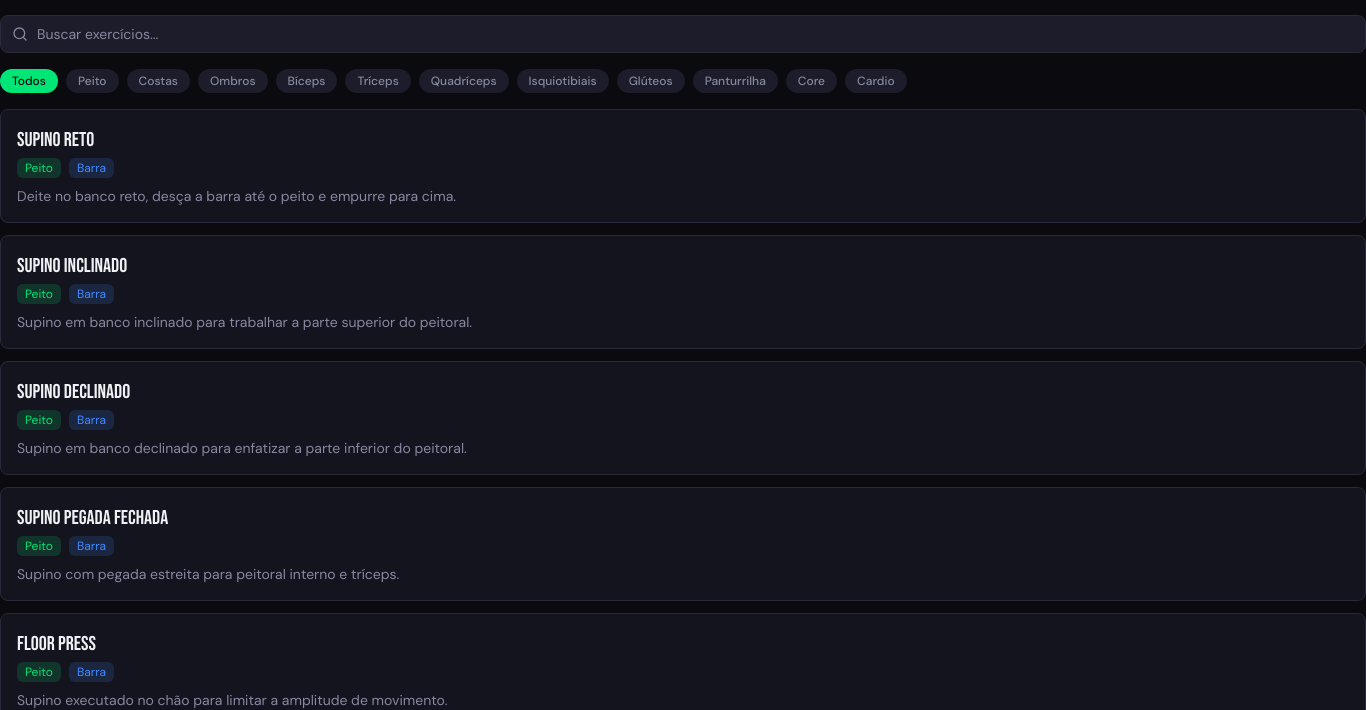
it: ExerciseLibrary › shows all exercises when "All" is clicked
Click the button "Peito".
click(92, 81)  # box [66, 69, 118, 93]
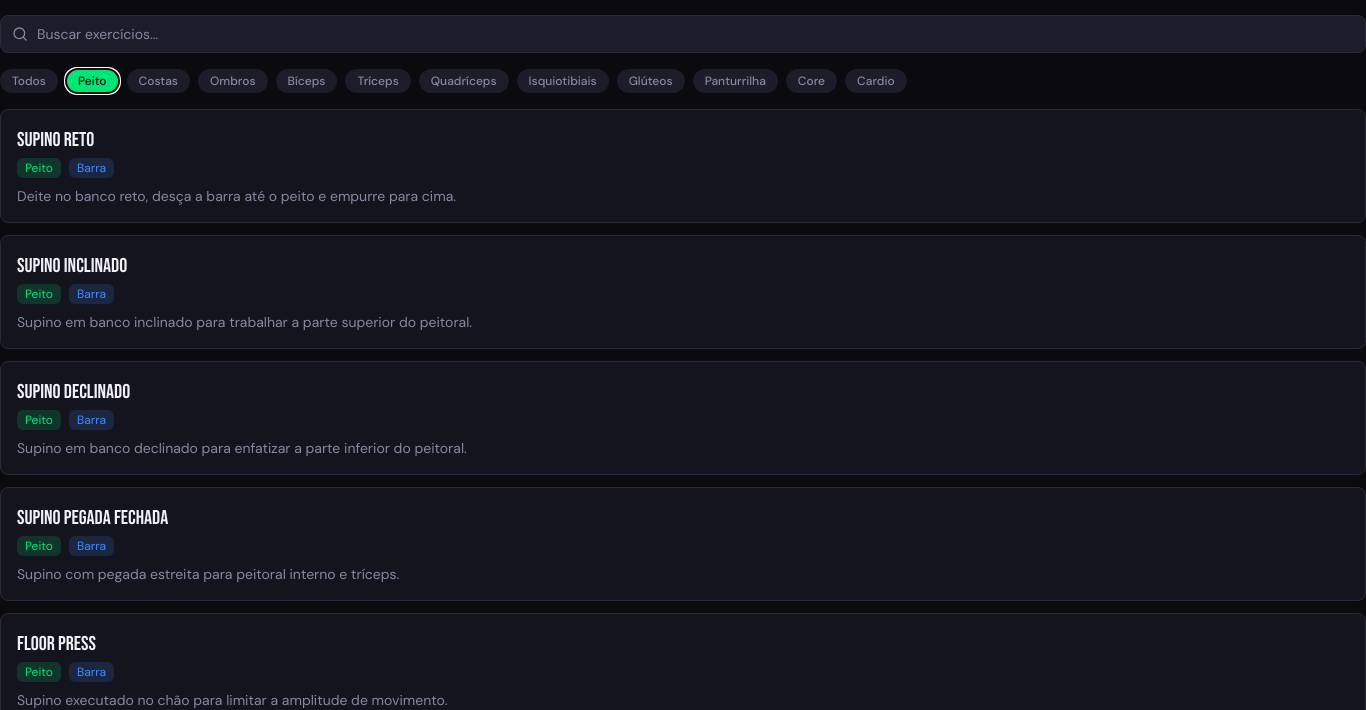
Click the button "Todos".
click(29, 81)  # box [0, 69, 58, 93]
(page scrolled)
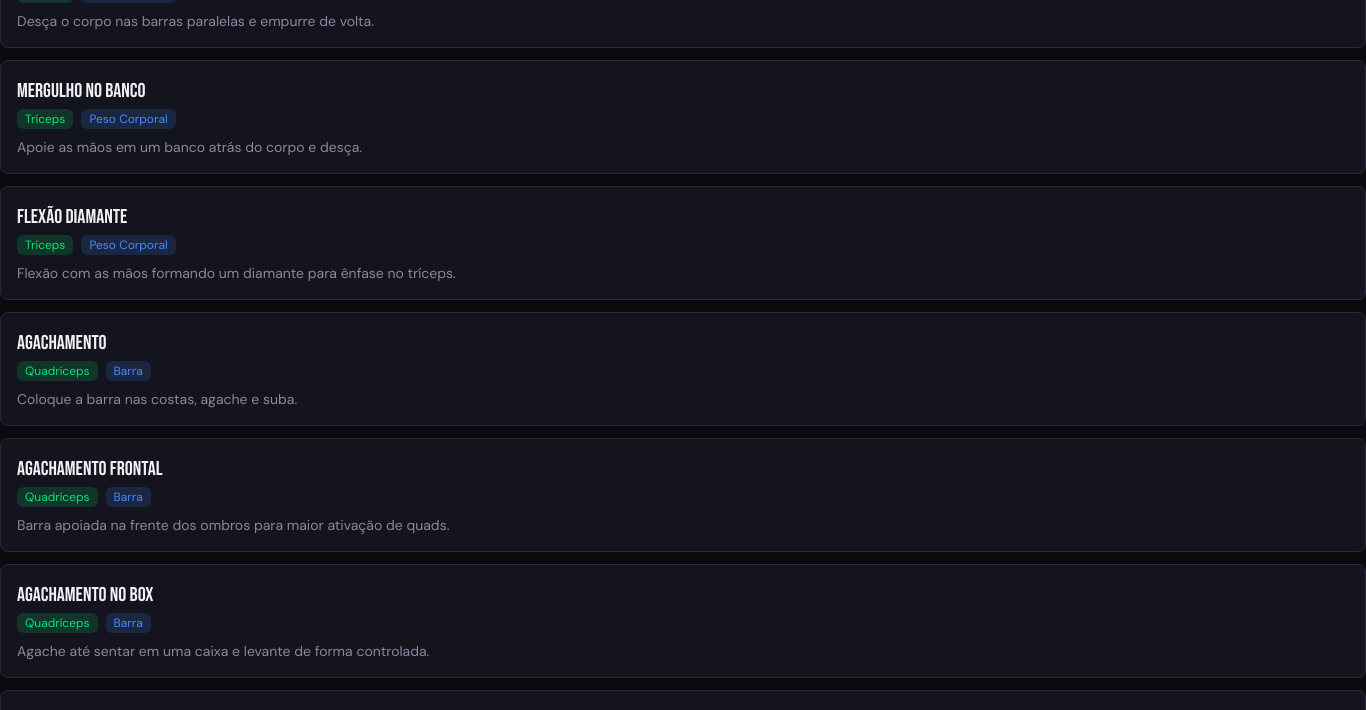
Expected: the heading "Agachamento" is shown, [17, 331, 107, 355]
